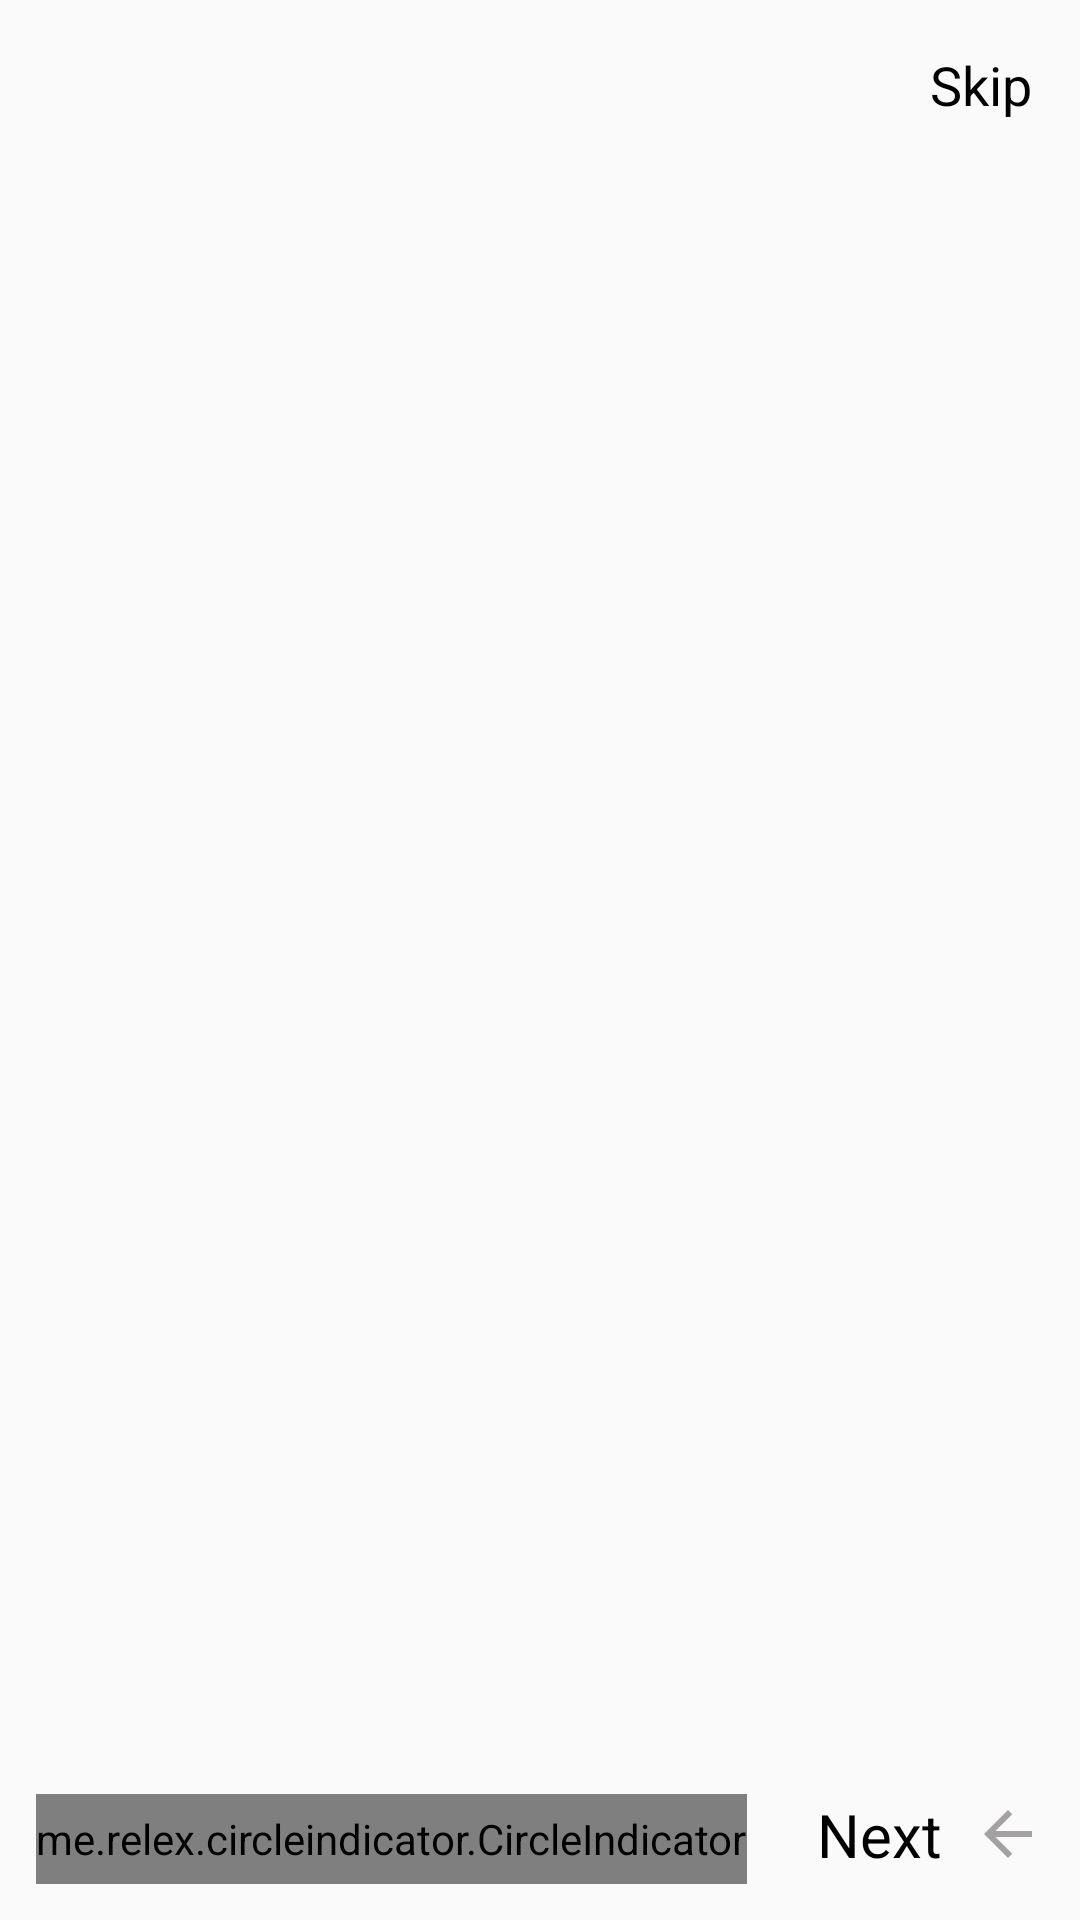

Screen size 1080px x 1920px. Icon name, then its center in pixels as point (x, y):
arrow back: point (1008, 1834)
